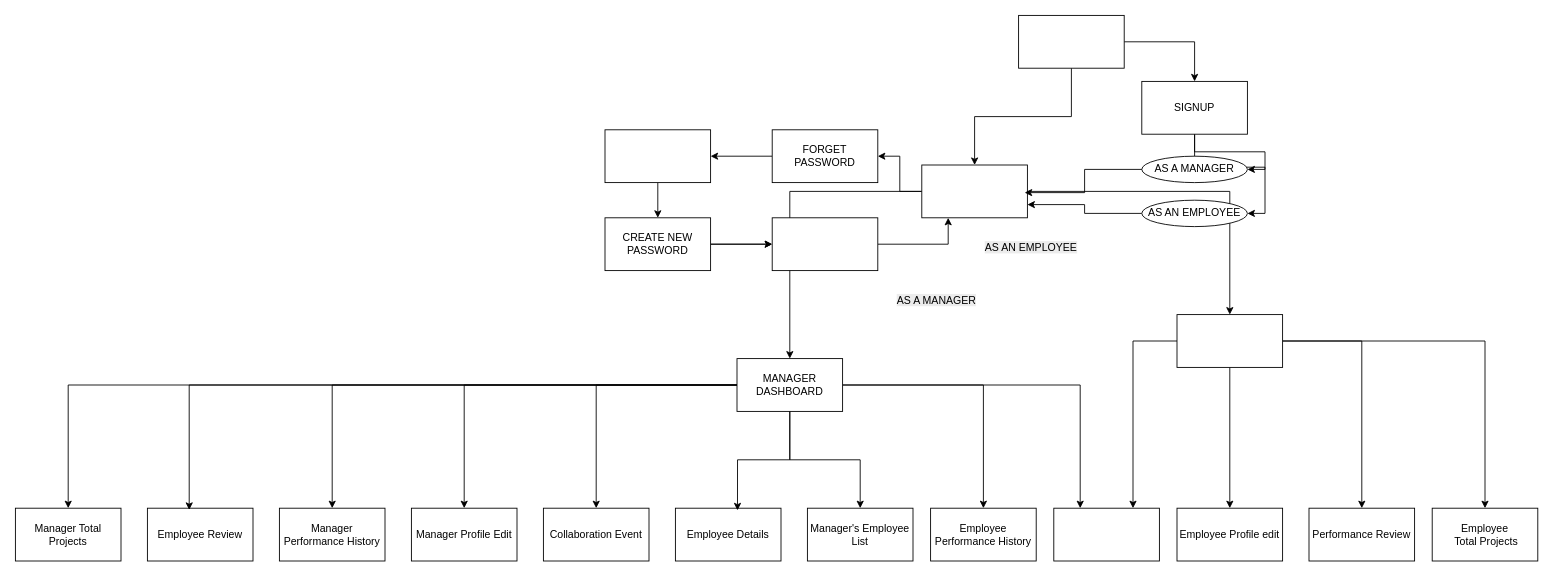
This 1553x576 diagram has some shape labels left out. Here are the shapes that lost their labels. From the top down, the centre of each, then its label:
pixel 1071 41: Landing page
pixel 657 156: EMAIL VERIFICATION
pixel 974 191: LOGIN
pixel 824 244: NEW PASSWORD CONFIRMATION
pixel 1229 340: EMPLOYEE DASHBAORD
pixel 1106 534: Team Overview Dashboard
